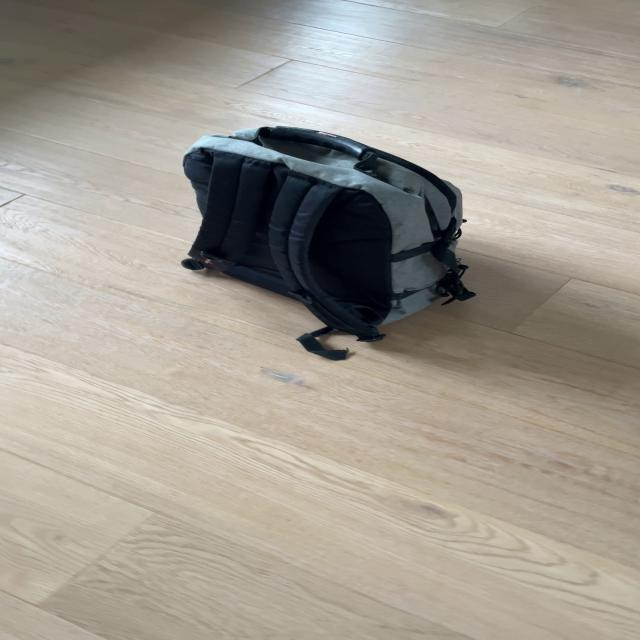backpack: (168, 116, 486, 344)
